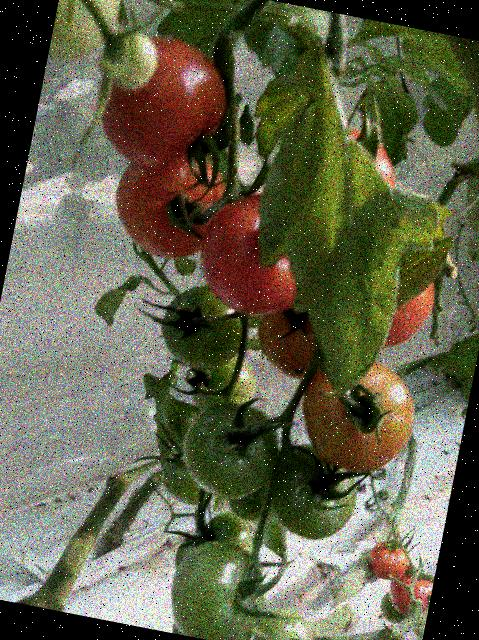l_fully_ripened: (84, 24, 236, 181), (188, 184, 312, 322), (104, 137, 234, 267), (382, 274, 437, 356), (384, 571, 433, 620), (365, 537, 410, 583)
l_green: (174, 393, 286, 506), (161, 533, 274, 640), (261, 439, 364, 547), (153, 278, 252, 377), (171, 502, 257, 583), (184, 345, 260, 419), (46, 0, 120, 70), (155, 440, 223, 510), (222, 456, 286, 526), (110, 28, 162, 95), (253, 601, 320, 640), (171, 621, 245, 640), (376, 590, 410, 625)
l_half_ripened: (290, 348, 424, 481), (248, 301, 320, 380)
